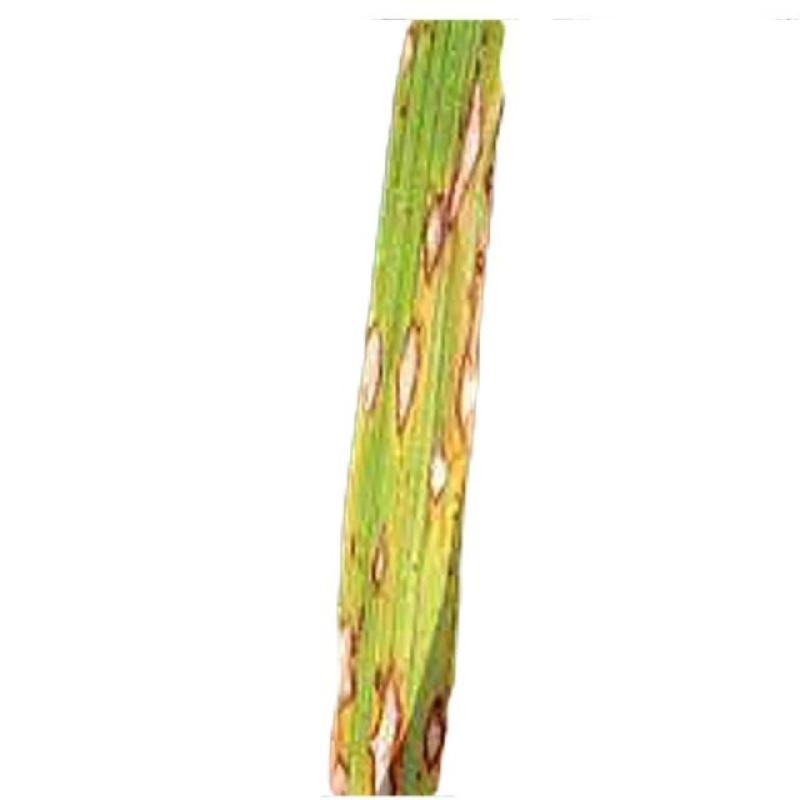Leaf_Blast: (410, 69, 489, 276), (375, 648, 454, 790), (359, 617, 425, 785), (405, 660, 465, 792), (352, 308, 407, 443), (442, 334, 501, 447), (322, 626, 356, 795), (358, 521, 408, 611), (414, 446, 446, 515)
